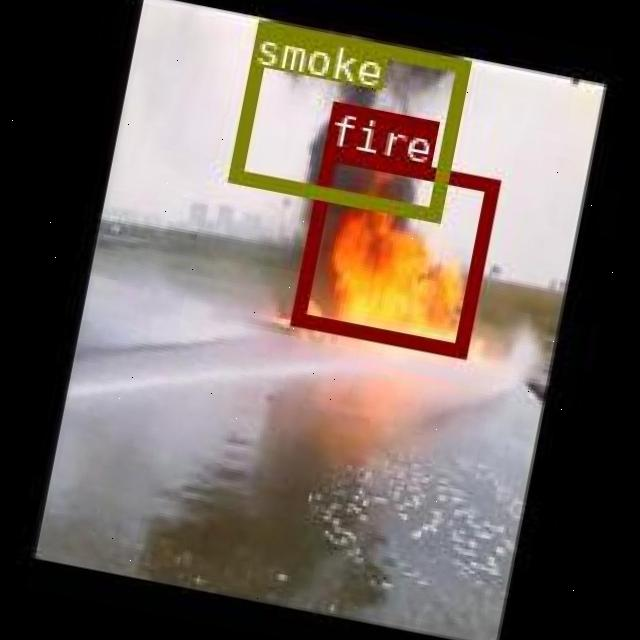fire: (288, 146, 499, 357)
smoke: (226, 18, 468, 220)
